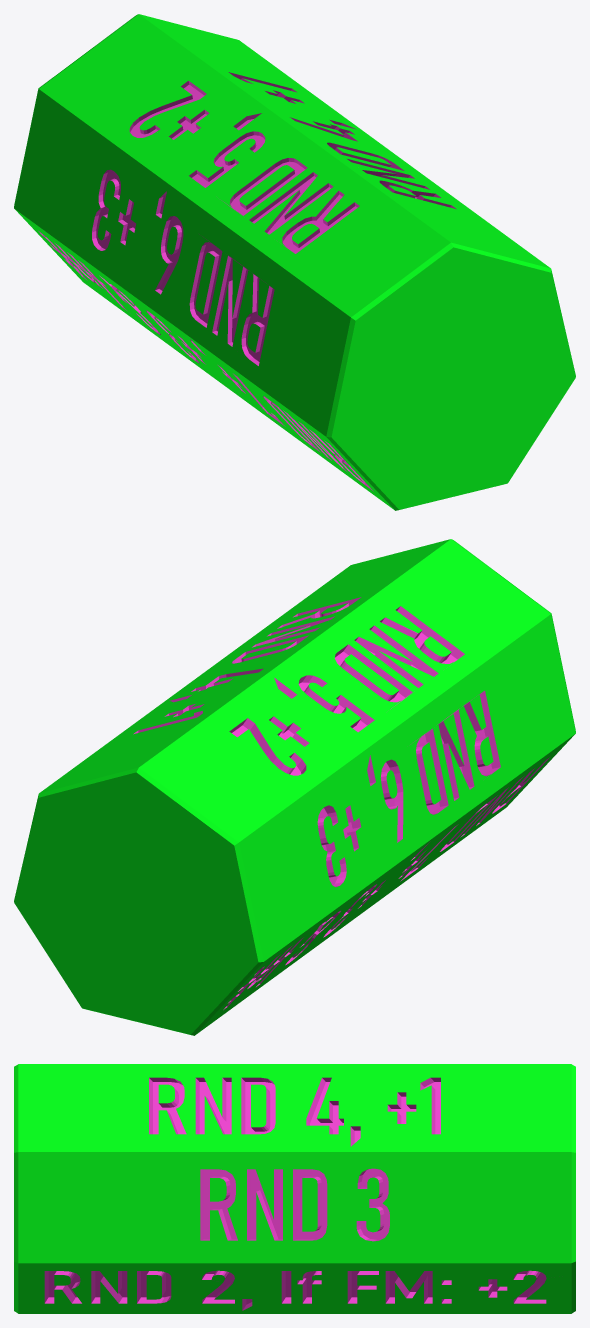
File: DieFatigue.glb
The picture shows the model from 3 angles, top to bottom: view 1: azimuth 30°, elevation 25°; view 2: azimuth 150°, elevation 25°; view 3: azimuth 270°, elevation 25°; orthographic projection. The views are drawn at different scales.
Parts seen in each view (by area): view 1: _Fatigue_Roller_Die; view 2: _Fatigue_Roller_Die; view 3: _Fatigue_Roller_Die.
Boxes of the visible parts, box(x1,y1,x2,y2) form: _Fatigue_Roller_Die: box(14, 14, 575, 510); _Fatigue_Roller_Die: box(14, 539, 575, 1035); _Fatigue_Roller_Die: box(14, 1064, 575, 1313).
Bounding box in the file's own units: 1.59 × 1.55 × 3.5.
